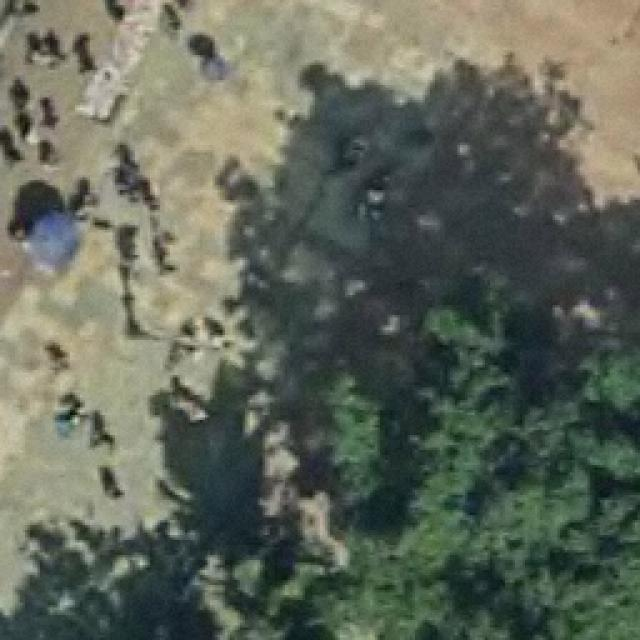vendedor_ambulante: (24, 206, 87, 275)
